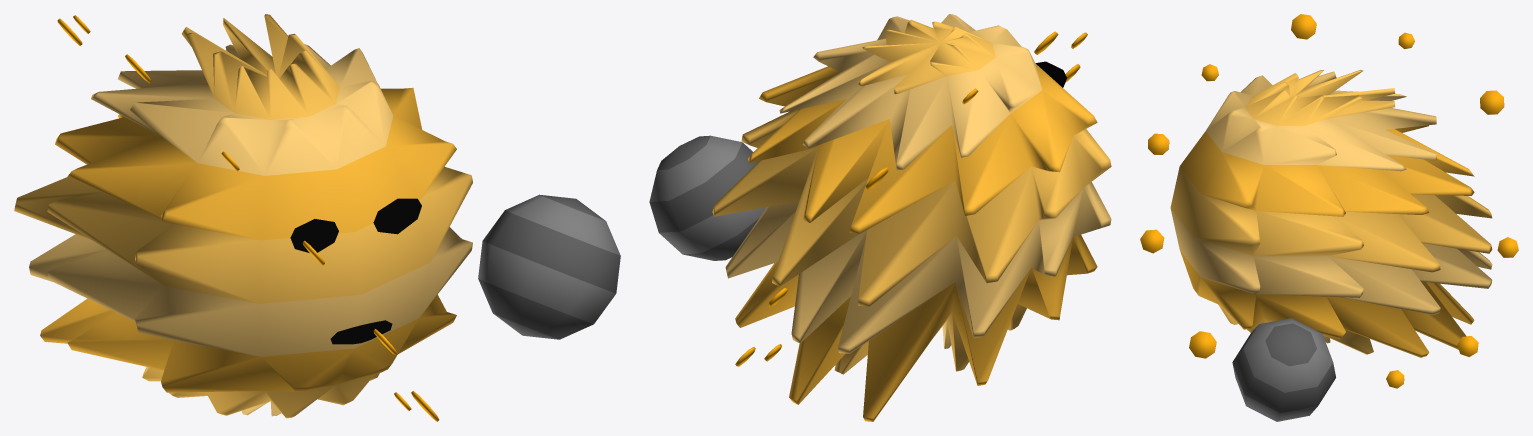
File: engineer-fdd1e4f2.glb
The picture shows the model from 3 angles, left to right: view 1: azimuth 30°, elevation 25°; view 2: azimuth 150°, elevation 25°; view 3: azimuth 270°, elevation 25°; orthographic projection. The views are drawn at different scales.
Visible parts, largest first — view 1: engineer, moon, wheel; view 2: engineer, moon, wheel; view 3: engineer, moon, wheel.
Part boxes in pixels (<box>): engineer: <box>14,14,472,418</box>; moon: <box>478,194,620,339</box>; wheel: <box>57,15,439,421</box>; engineer: <box>712,14,1111,421</box>; moon: <box>649,135,766,260</box>; wheel: <box>735,31,1087,366</box>; engineer: <box>1170,70,1492,357</box>; moon: <box>1232,318,1335,421</box>; wheel: <box>1140,14,1518,388</box>.
Size of the model in its own units: 2.21 by 1.7 by 1.98.
1 material, 1 textured.
